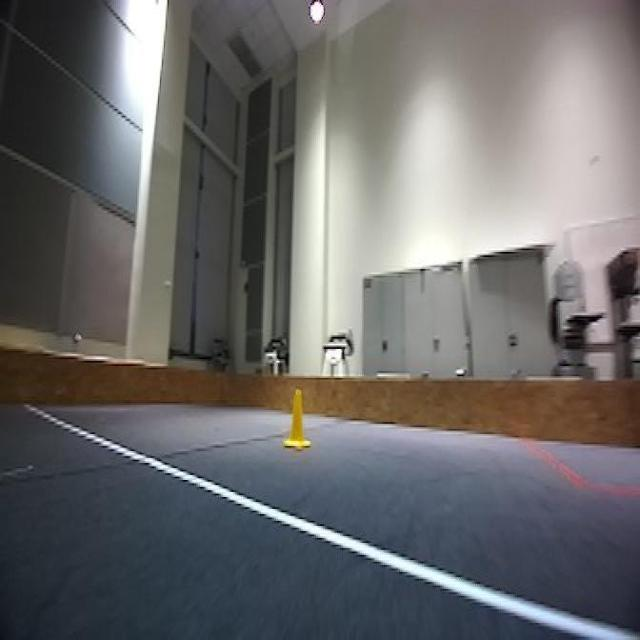frc_cone: (285, 386, 313, 446)
